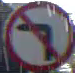Don't turn left: (3, 0, 74, 69)
